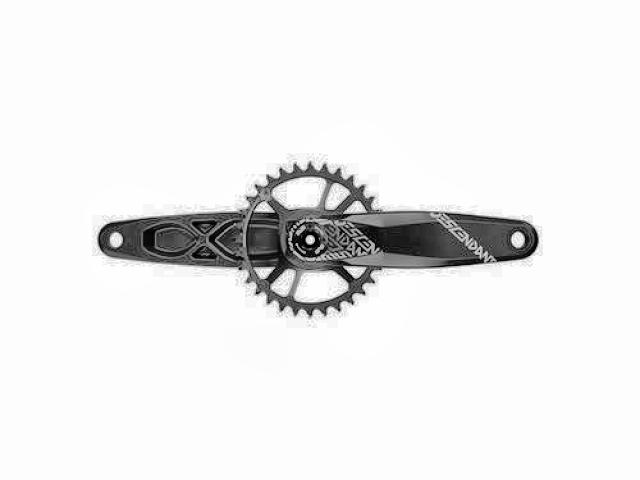cranks_set: (236, 158, 539, 318)
